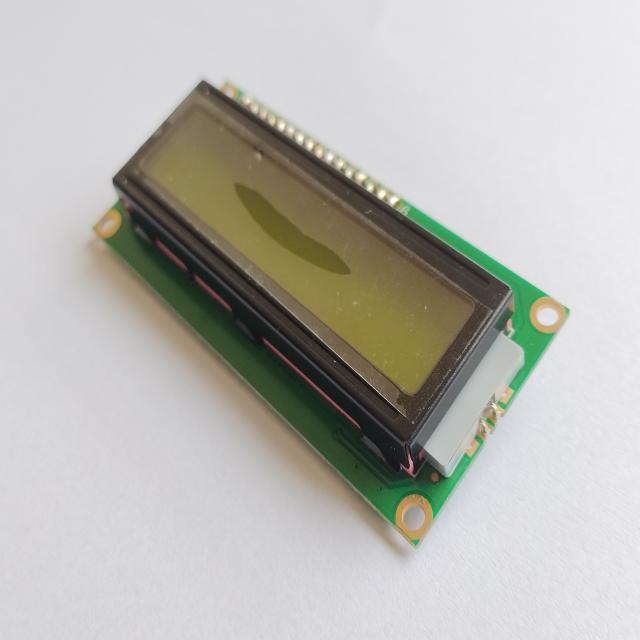lcd: (86, 60, 578, 549)
